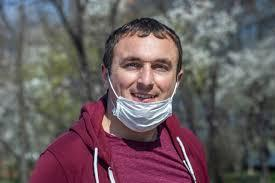Wore Mask Incorrectly: (101, 18, 184, 135)
